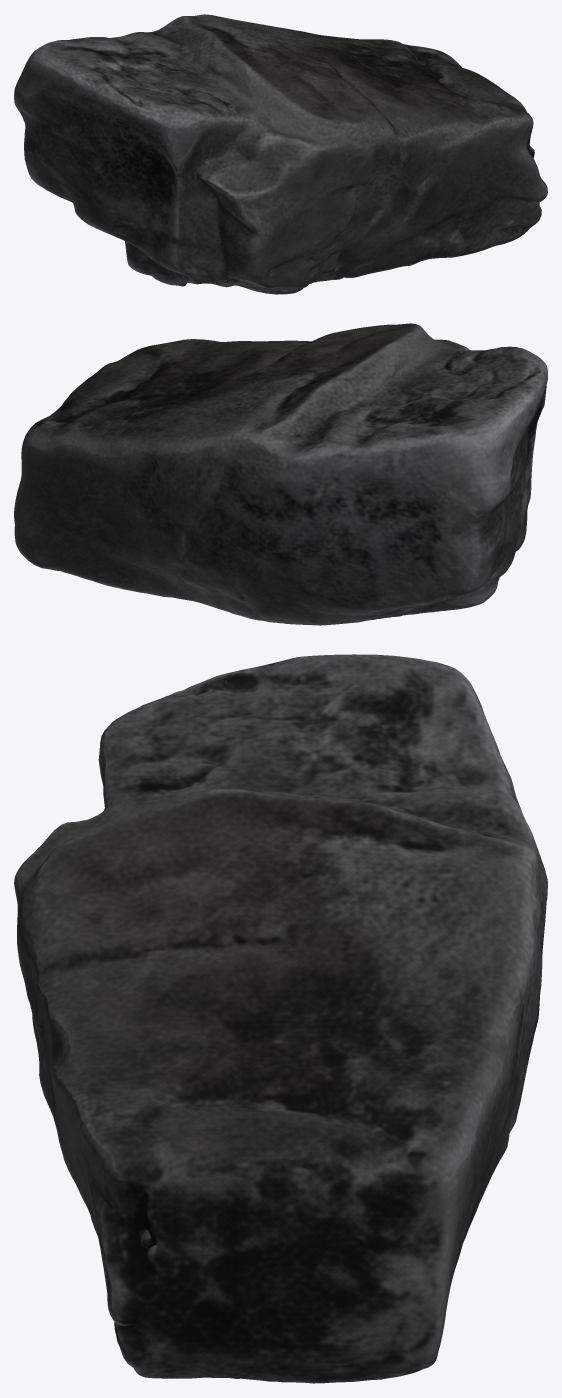
The model's file is gate_passage_001_A2.glb.
3 renders of one model, top to bottom at view 1: azimuth 30°, elevation 25°; view 2: azimuth 150°, elevation 25°; view 3: azimuth 270°, elevation 25°, orthographic. The views are drawn at different scales.
Visible parts, largest first — view 1: world; view 2: world; view 3: world.
Boxes of the visible parts, x1=… form: world: x1=14, y1=14, x2=547, y2=294; world: x1=14, y1=323, x2=547, y2=625; world: x1=14, y1=654, x2=547, y2=1383.
Bounding box in the file's own units: 3.5 × 1.75 × 2.15.
Materials: 1 (1 with a texture image).
